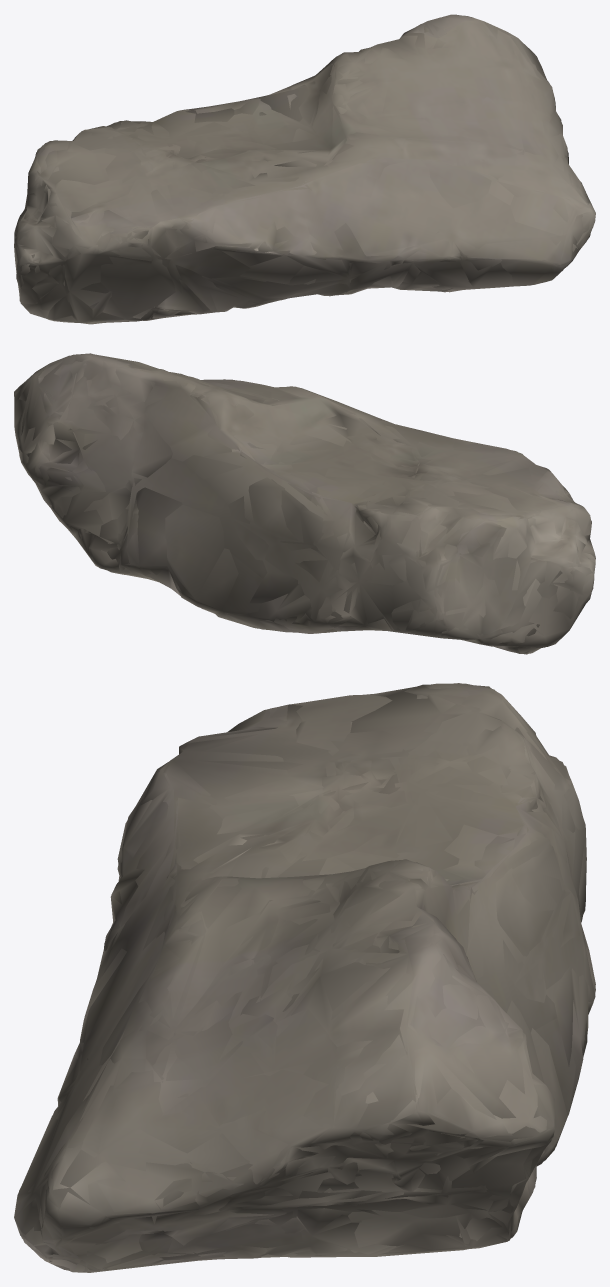
File: moon_rock_01_lod1.glb
3 renders of one model, top to bottom at view 1: azimuth 30°, elevation 25°; view 2: azimuth 150°, elevation 25°; view 3: azimuth 270°, elevation 25°, orthographic. The views are drawn at different scales.
Visible parts, largest first — view 1: moon_rock_01_LOD0; view 2: moon_rock_01_LOD0; view 3: moon_rock_01_LOD0.
Part boxes in pixels (x1,y1,x2,y2): moon_rock_01_LOD0: (14, 14, 595, 324); moon_rock_01_LOD0: (14, 353, 595, 654); moon_rock_01_LOD0: (14, 683, 595, 1272).
Bounding box in the file's own units: 0.2123 × 0.0753 × 0.1117.
1 material, 1 textured.
